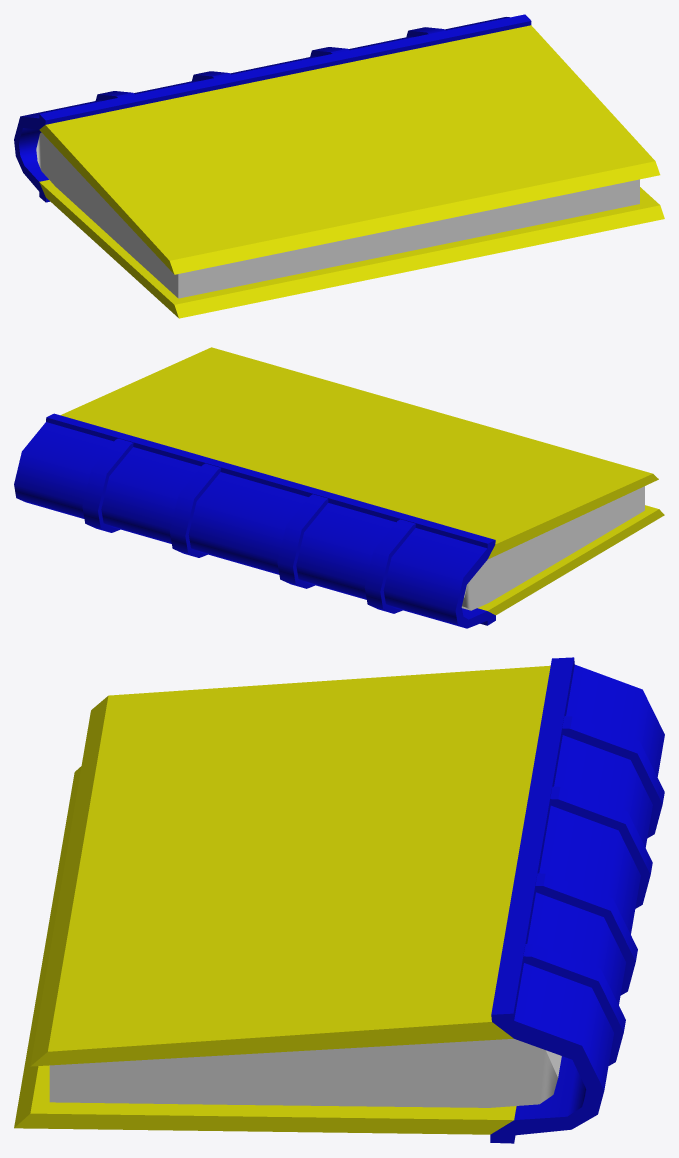
The model's file is SM_Notebook_002.fbx.
The picture shows the model from 3 angles, top to bottom: view 1: azimuth 30°, elevation 25°; view 2: azimuth 150°, elevation 25°; view 3: azimuth 270°, elevation 25°; orthographic projection. The views are drawn at different scales.
Visible parts, largest first — view 1: Notebooks_002; view 2: Notebooks_002; view 3: Notebooks_002.
Part boxes in pixels (x1,y1,x2,y2): Notebooks_002: (14,14,664,318); Notebooks_002: (14,347,664,628); Notebooks_002: (14,657,664,1143).
Size of the model in its own units: 23.65 by 3.83 by 17.39.
